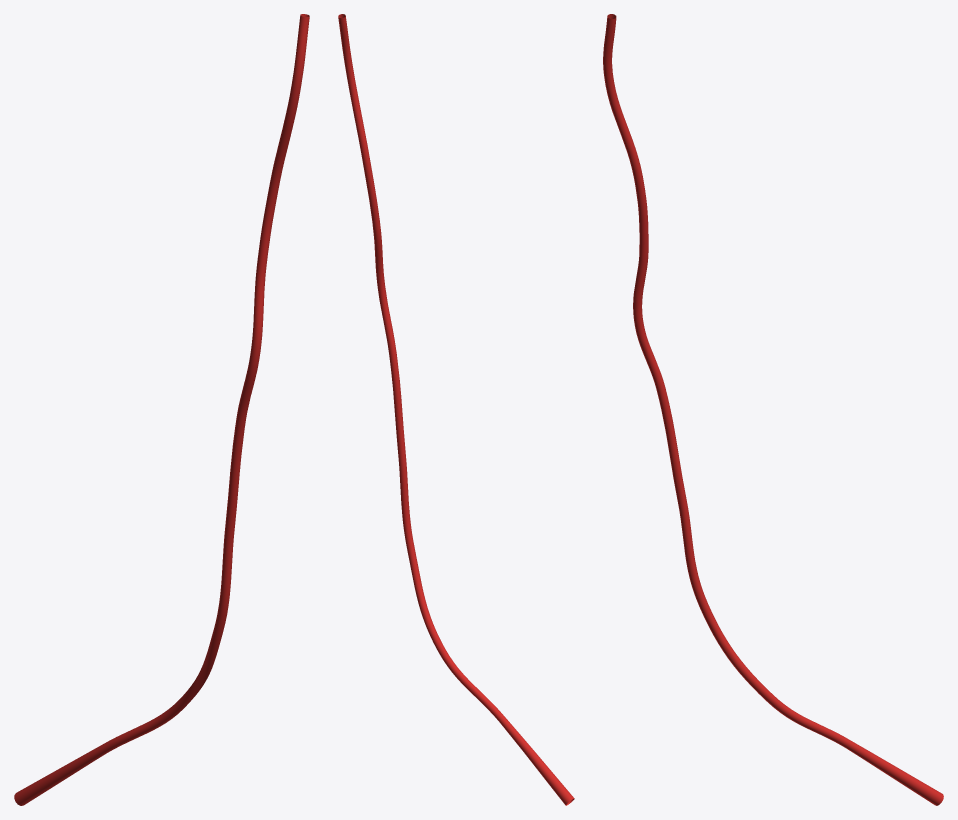
Rendered from circulatorio-inferior-epigastric-vein-r.glb.
The picture shows the model from 3 angles, left to right: view 1: azimuth 30°, elevation 25°; view 2: azimuth 210°, elevation 25°; view 3: azimuth 270°, elevation 25°; orthographic projection. The views are drawn at different scales.
Parts seen in each view (by area): view 1: Inferior epigastric vein.r; view 2: Inferior epigastric vein.r; view 3: Inferior epigastric vein.r.
Part boxes in pixels (x1,y1,x2,y2): Inferior epigastric vein.r: (14,14,309,805); Inferior epigastric vein.r: (338,14,574,805); Inferior epigastric vein.r: (603,14,943,805).
Size of the model in its own units: 0.0288 by 0.1998 by 0.0734.
